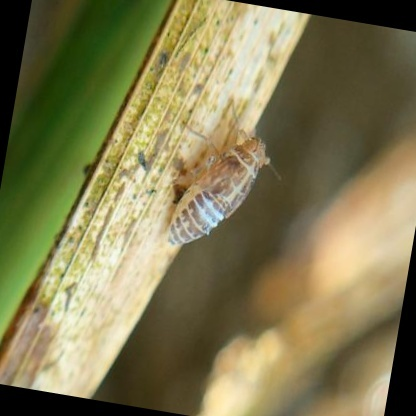Brown_hopper: (136, 84, 304, 321)
